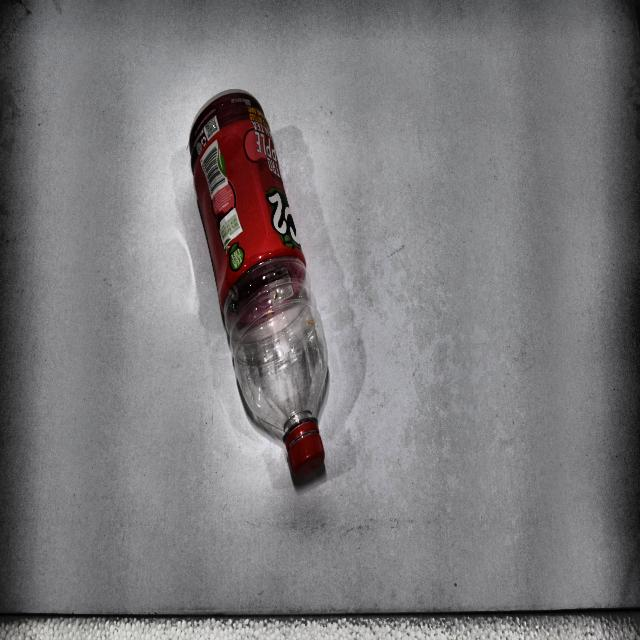Bottles: (180, 80, 338, 486)
